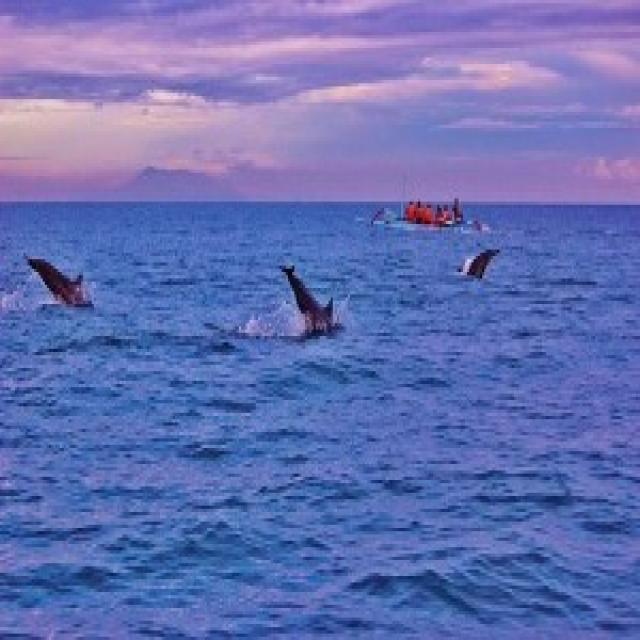Dolphin: (22, 244, 96, 328), (275, 256, 344, 341), (456, 242, 504, 297)
